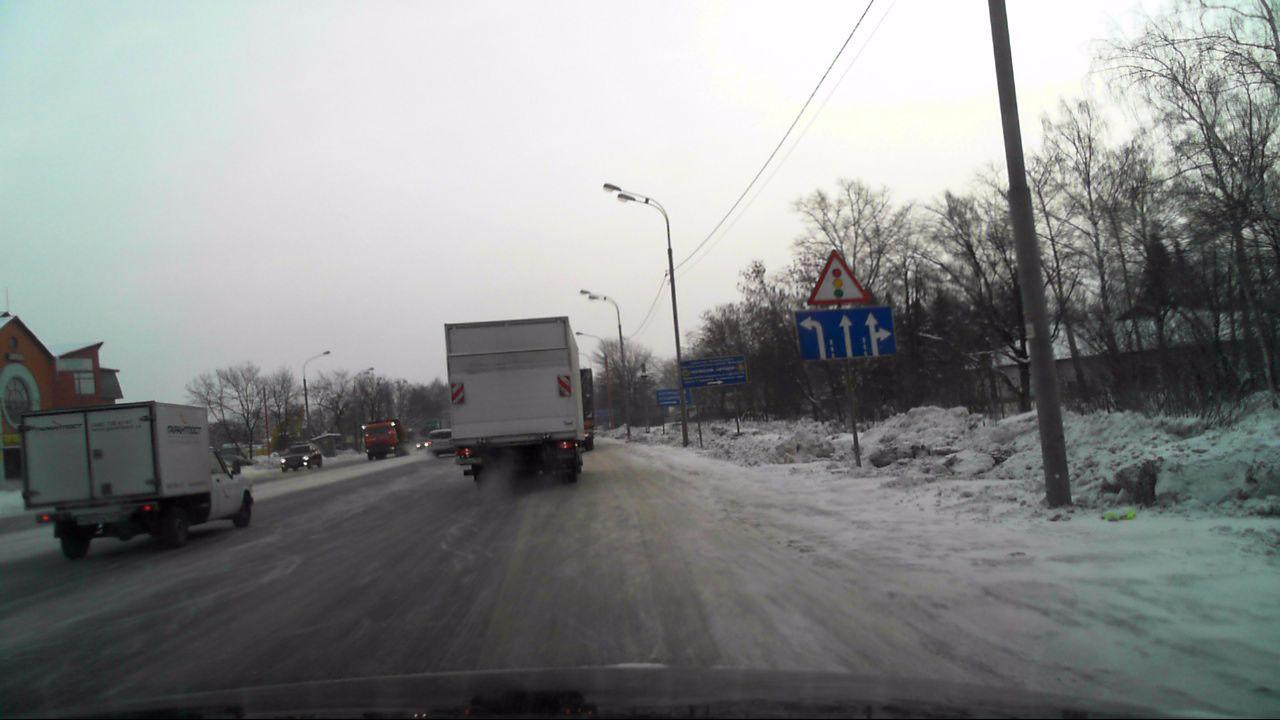1_8: (808, 249, 870, 306)
5_15_1: (795, 305, 898, 362)
6_10_1: (679, 357, 751, 387), (655, 388, 693, 406)
